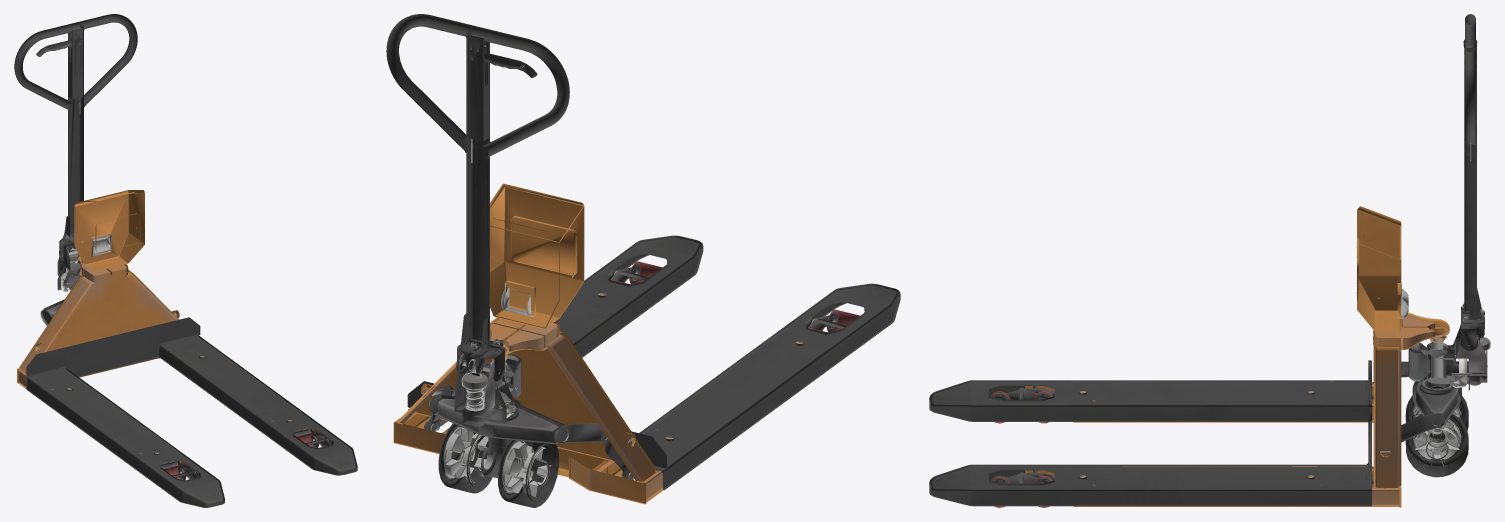
File: palletJack_scale_a01.glb
The picture shows the model from 3 angles, left to right: view 1: azimuth 30°, elevation 25°; view 2: azimuth 150°, elevation 25°; view 3: azimuth 270°, elevation 25°; orthographic projection. The views are drawn at different scales.
Bounding box in the file's own units: 0.7043 × 1.26 × 1.52.
Materials: 9 (9 with a texture image).
